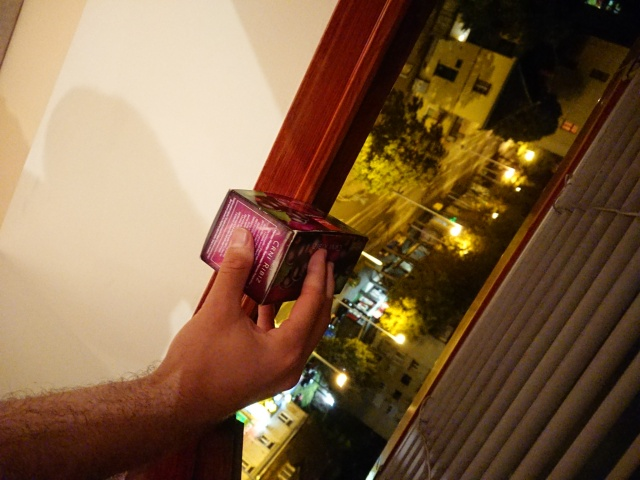Franck Black Currant Tea 60g: (197, 186, 372, 309)
